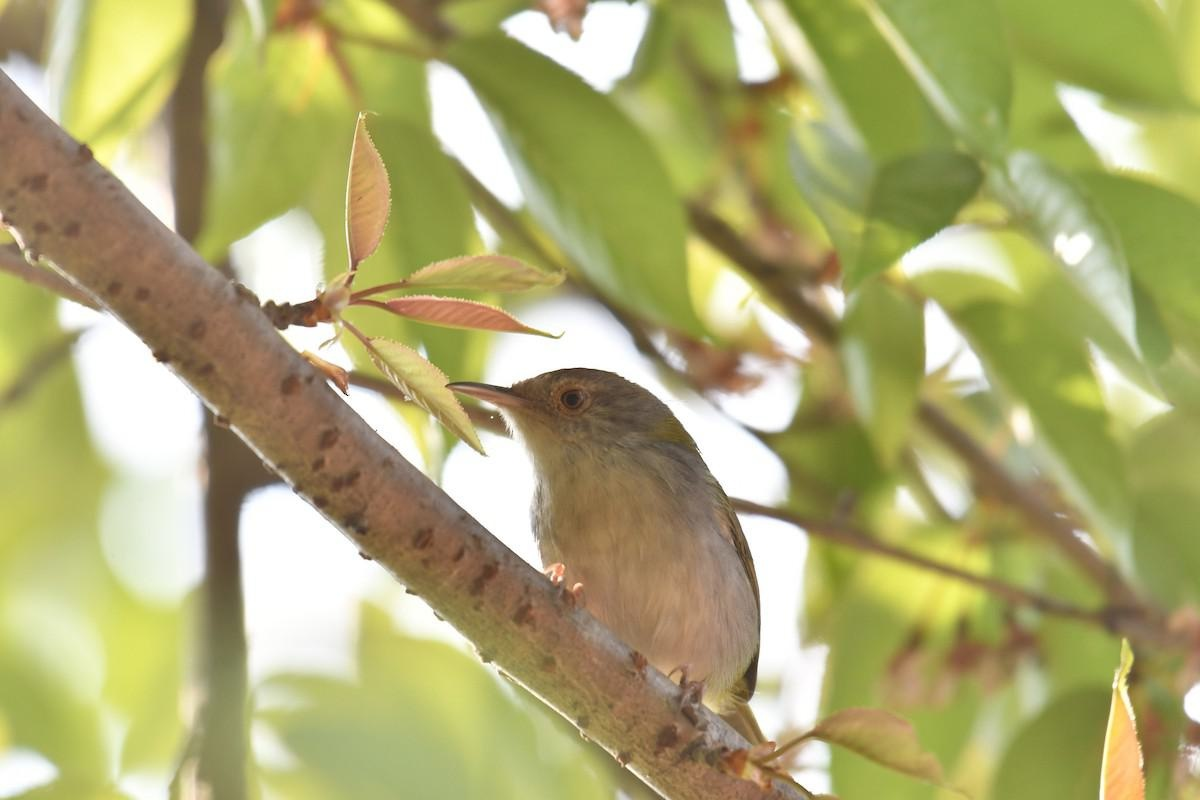tailorbird: (433, 291, 821, 761)
